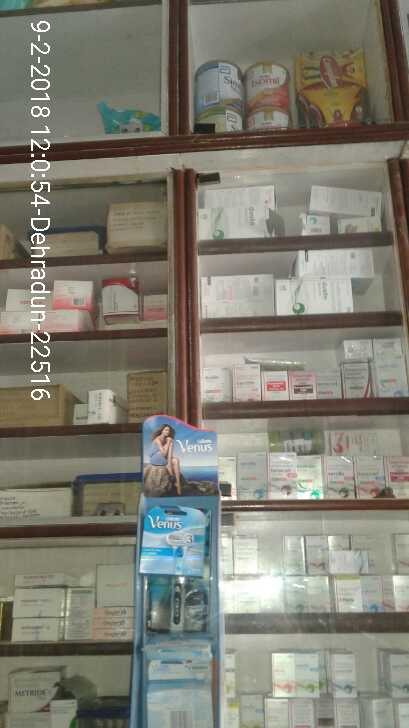venus: (137, 509, 213, 577)
